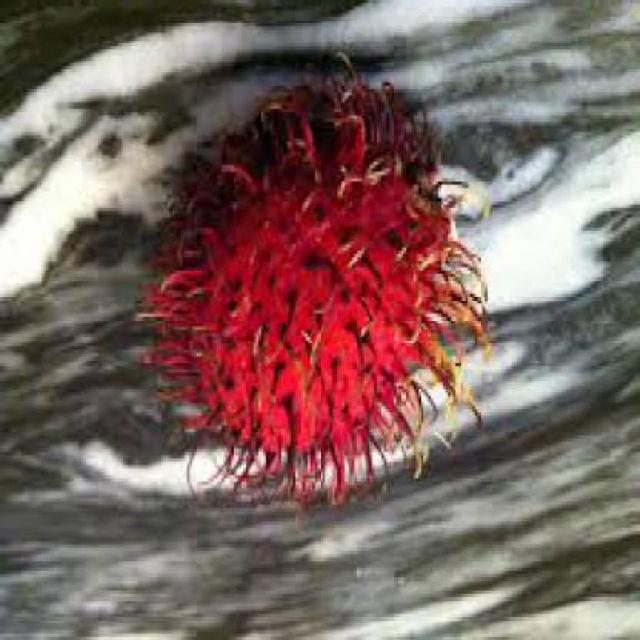BIODEGRADABLE: (143, 78, 489, 494)
